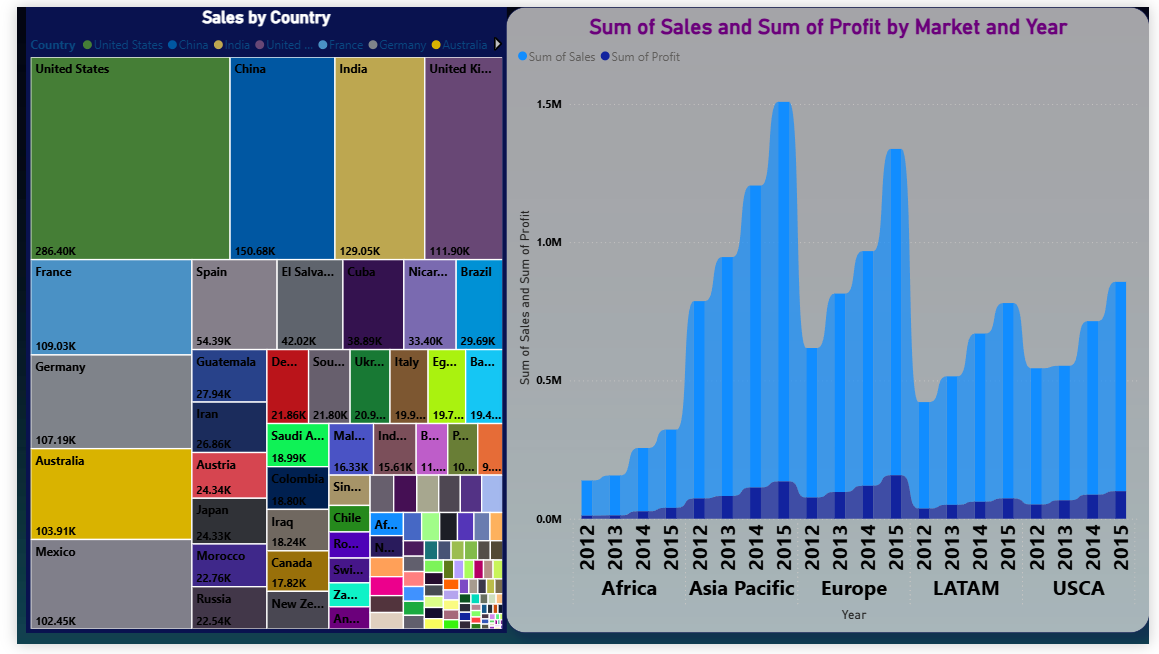

The page's visual inventory and layout, read from the dashboard file:
{"tool":"powerbi","page":{"name":"Comparison","canvas":[1280,720],"ordinal":3},"visuals":[{"type":"treemap","title":"Sales by Country","fields":{"Group":["Orders.Country"],"Values":["Sum(Orders.Profit)"]},"box":[9.8,0,543.3,707.5],"z":0},{"type":"ribbonChart","fields":{"Category":["Orders.Market","Orders.Order Date.Variation.Date Hierarchy.Year"],"Y":["Sum(Orders.Sales)","Sum(Orders.Profit)"]},"box":[553,0,727.1,707.5],"z":1}]}

Visuals, with their boxes in screenshot pixels (x1, y1, x2, y2), scaled from the page's 1280x720 canvas onto the 1159x654 screenshot:
"Sales by Country" treemap: [9, 0, 501, 643]
ribbonChart - Orders.Market x Orders.Order Date.Variation.Date Hierarchy.Year: [501, 0, 1158, 643]
